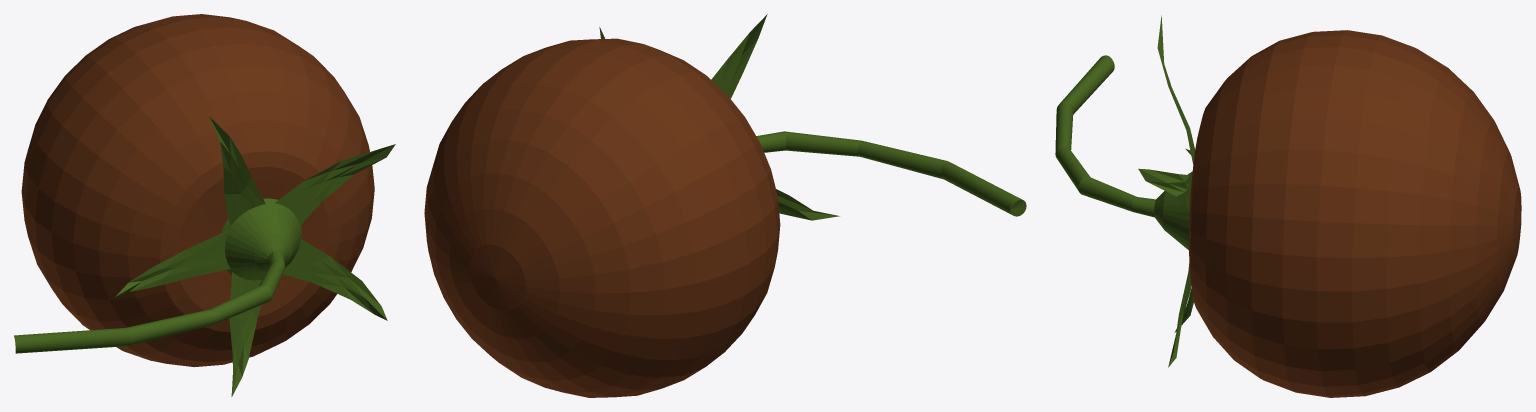
Rendered from TomatoFruit.obj.
The picture shows the model from 3 angles, left to right: view 1: azimuth 30°, elevation 25°; view 2: azimuth 150°, elevation 25°; view 3: azimuth 270°, elevation 25°; orthographic projection. The views are drawn at different scales.
Visible parts, largest first — view 1: fruit, sepals; view 2: fruit, sepals; view 3: fruit, sepals.
Boxes of the visible parts, x1=… form: fruit: x1=21, y1=14, x2=374, y2=367; sepals: x1=14, y1=116, x2=395, y2=396; fruit: x1=424, y1=38, x2=780, y2=397; sepals: x1=599, y1=14, x2=1026, y2=220; fruit: x1=1189, y1=30, x2=1521, y2=397; sepals: x1=1055, y1=15, x2=1195, y2=367.
Bounding box in the file's own units: 7.95 × 5.41 × 6.84.
